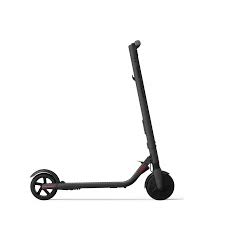kick_board: (30, 40, 174, 200)
kick_body: (62, 183, 133, 188)
kick_handler: (128, 41, 141, 58)
kick_neck: (133, 62, 159, 162)
kick_wheel: (30, 169, 58, 199), (146, 172, 174, 200)
